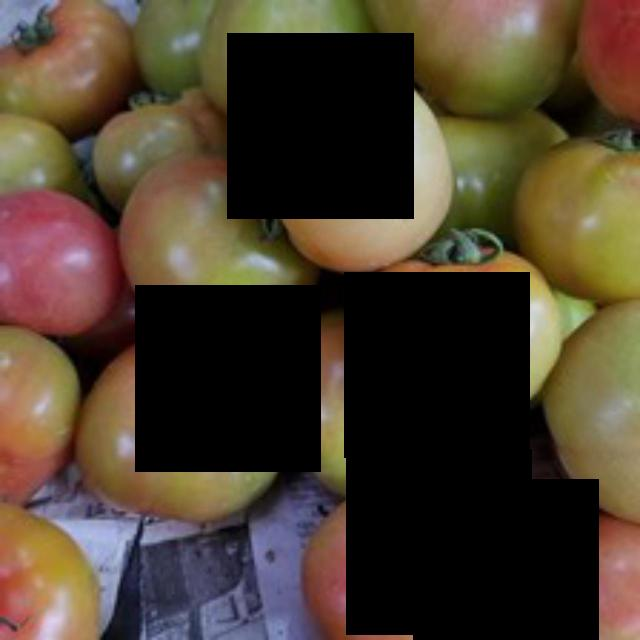tomato: (300, 477, 505, 637)
